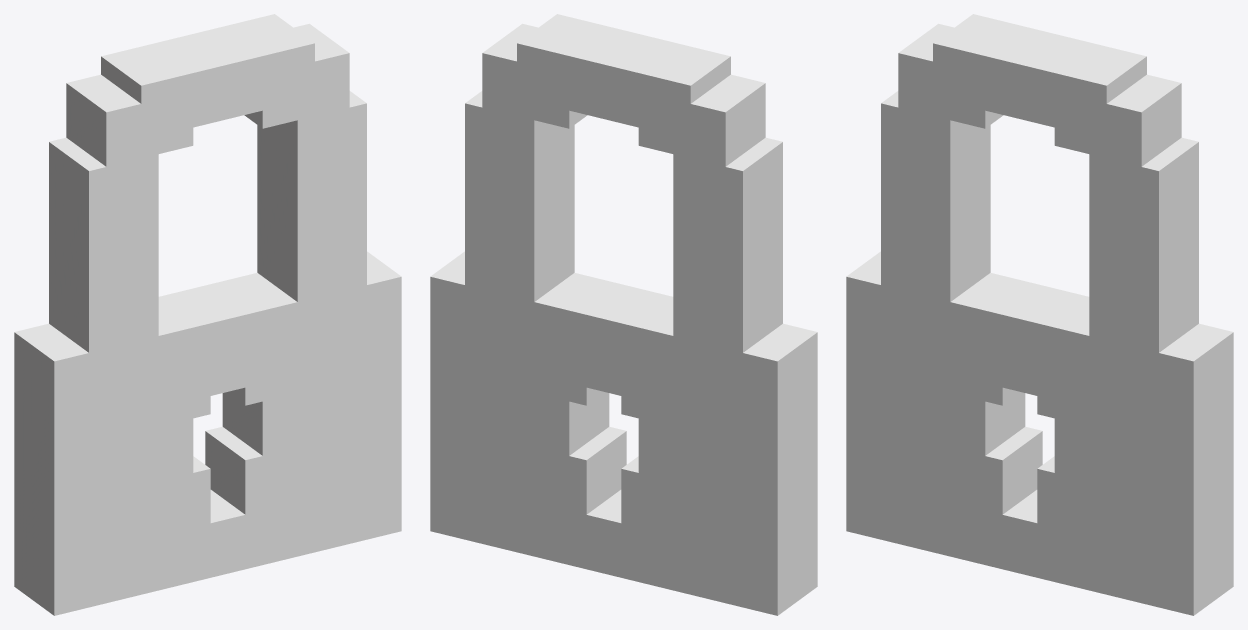
Rendered from chapter_locked_number.obj.
3 renders of one model, left to right at view 1: azimuth 30°, elevation 25°; view 2: azimuth 150°, elevation 25°; view 3: azimuth 330°, elevation 25°, orthographic.
Size of the model in its own units: 2 by 2.8 by 0.4.
Materials: 1 (1 with a texture image).
